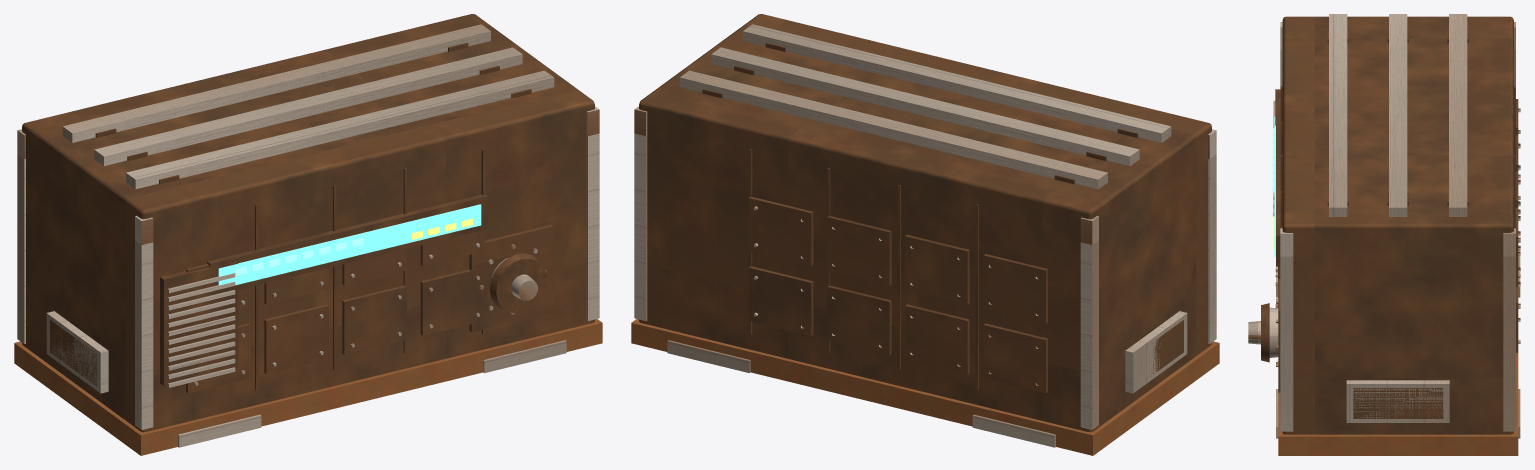
File: megapack.glb
The picture shows the model from 3 angles, left to right: view 1: azimuth 30°, elevation 25°; view 2: azimuth 150°, elevation 25°; view 3: azimuth 270°, elevation 25°; orthographic projection. The views are drawn at different scales.
Visible parts, largest first — view 1: Body, Skirt, Bus1, Bus2, Bus0, LouverWell, StatusGlass, StatusWell, Rail01, CouplerHouse, Door1_3_0, Door1_1_0 (+14 smaller); view 2: Body, Skirt, Bus1, Bus0, Bus2, Rail00, Door0_3_0, Door0_3_1, Door0_1_0, Door0_0_1, Door0_1_1, Door0_2_0 (+10 smaller); view 3: Body, Skirt, Bus0, Bus1, Bus2, PocketLip1, Rail11, Pocket1, Rail10, StatusWell, Collar, Coupler (+4 smaller).
Part boxes in pixels (box(x1,y1,x2,y2)): Body: box(22, 14, 594, 432); Skirt: box(14, 319, 602, 455); Bus1: box(94, 47, 522, 165); Bus2: box(126, 70, 554, 189); Bus0: box(62, 24, 490, 142); LouverWell: box(160, 261, 238, 385); StatusGlass: box(218, 204, 481, 285); StatusWell: box(207, 194, 488, 289); Rail01: box(135, 216, 153, 429); CouplerHouse: box(469, 224, 553, 332); Door1_3_0: box(420, 267, 485, 335); Door1_1_0: box(264, 304, 328, 374); Body: box(639, 14, 1211, 432); Skirt: box(631, 319, 1219, 455); Bus1: box(711, 47, 1139, 165); Bus0: box(679, 70, 1107, 189); Bus2: box(743, 24, 1171, 142); Rail00: box(1080, 216, 1098, 429); Door0_3_0: box(748, 266, 813, 335); Door0_3_1: box(748, 197, 813, 266); Door0_1_0: box(905, 304, 969, 374); Door0_0_1: box(983, 254, 1047, 323); Door0_1_1: box(905, 234, 969, 304); Door0_2_0: box(827, 285, 891, 354); Body: box(1282, 16, 1513, 434); Skirt: box(1278, 353, 1518, 455); Bus0: box(1449, 14, 1467, 216); Bus1: box(1389, 14, 1407, 216); Bus2: box(1329, 14, 1347, 216); PocketLip1: box(1346, 380, 1449, 422); Rail11: box(1280, 228, 1293, 431); Pocket1: box(1353, 388, 1443, 418); Rail10: box(1503, 228, 1515, 431); StatusWell: box(1276, 107, 1280, 266); Collar: box(1261, 303, 1269, 362); Coupler: box(1269, 307, 1278, 357).
Bounding box in the file's own units: 2.4 × 1.23 × 1.27.
Materials: 8 (4 with a texture image).
